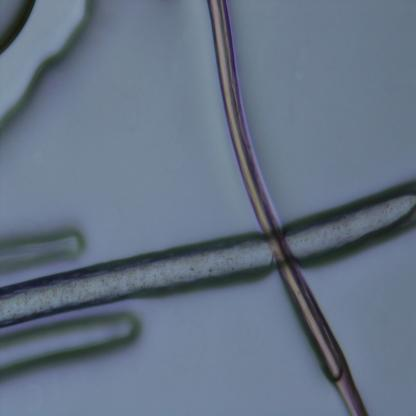Air bubble: (0, 0, 93, 133), (0, 307, 141, 381), (0, 232, 87, 270)
Microfibre: (207, 0, 366, 414), (0, 180, 416, 330)
